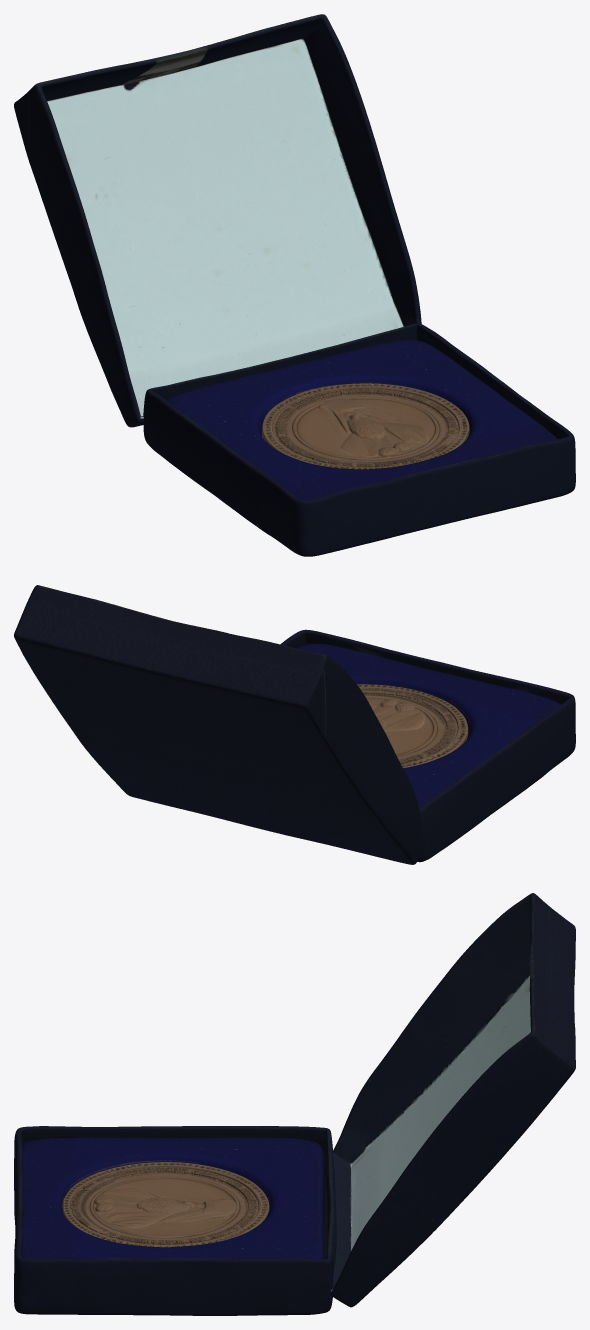
3 renders of one model, top to bottom at view 1: azimuth 30°, elevation 25°; view 2: azimuth 150°, elevation 25°; view 3: azimuth 270°, elevation 25°, orthographic.
Bounding box in the file's own units: 1.16 × 1.07 × 1.9.
Materials: 1 (1 with a texture image).
